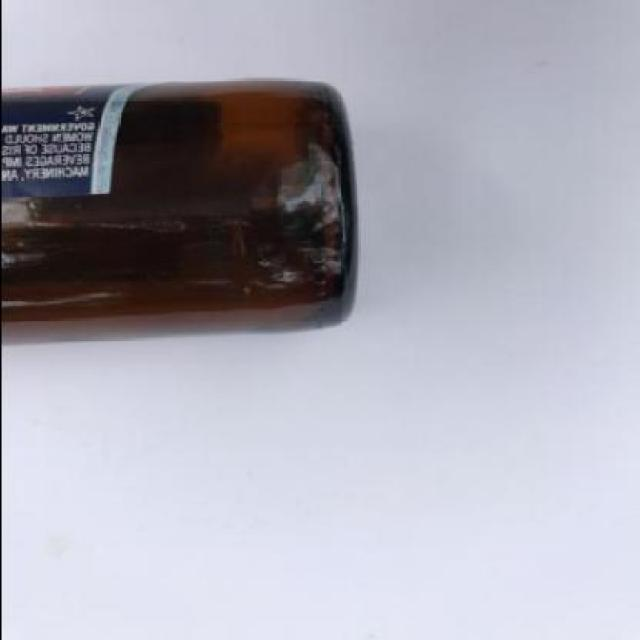GLASS: (2, 78, 360, 344)
